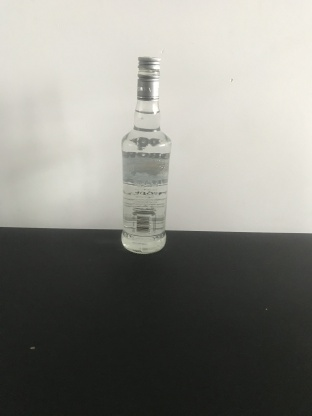nakretka: (135, 53, 161, 101)
